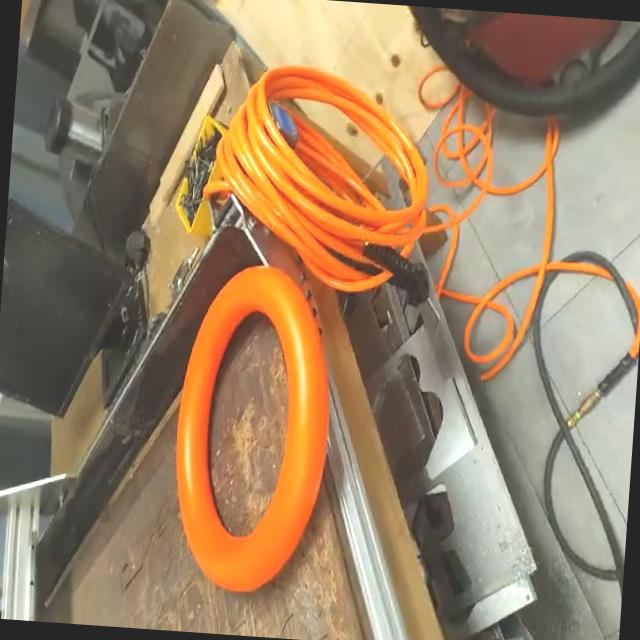note: (162, 264, 344, 602)
